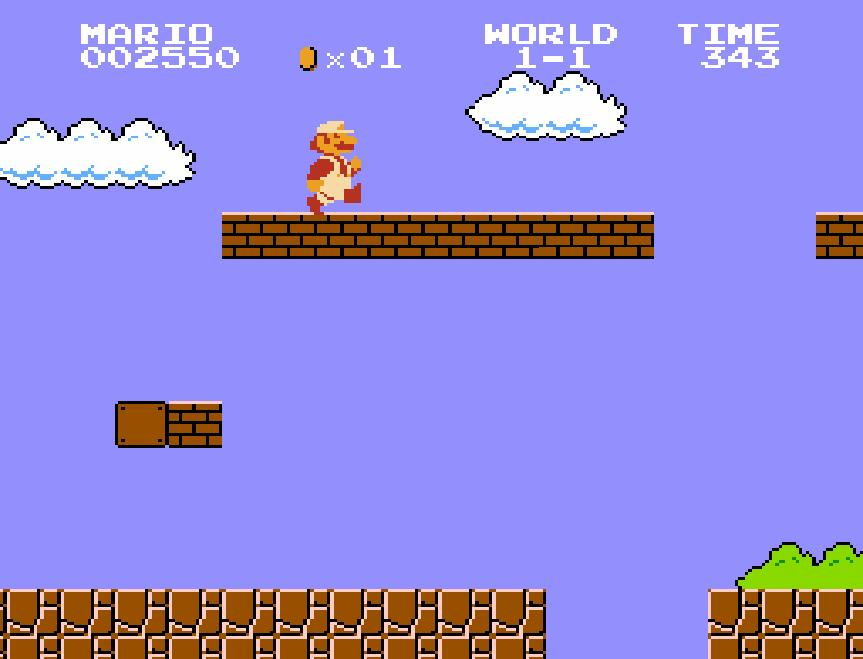fire_mario: (304, 118, 362, 216)
